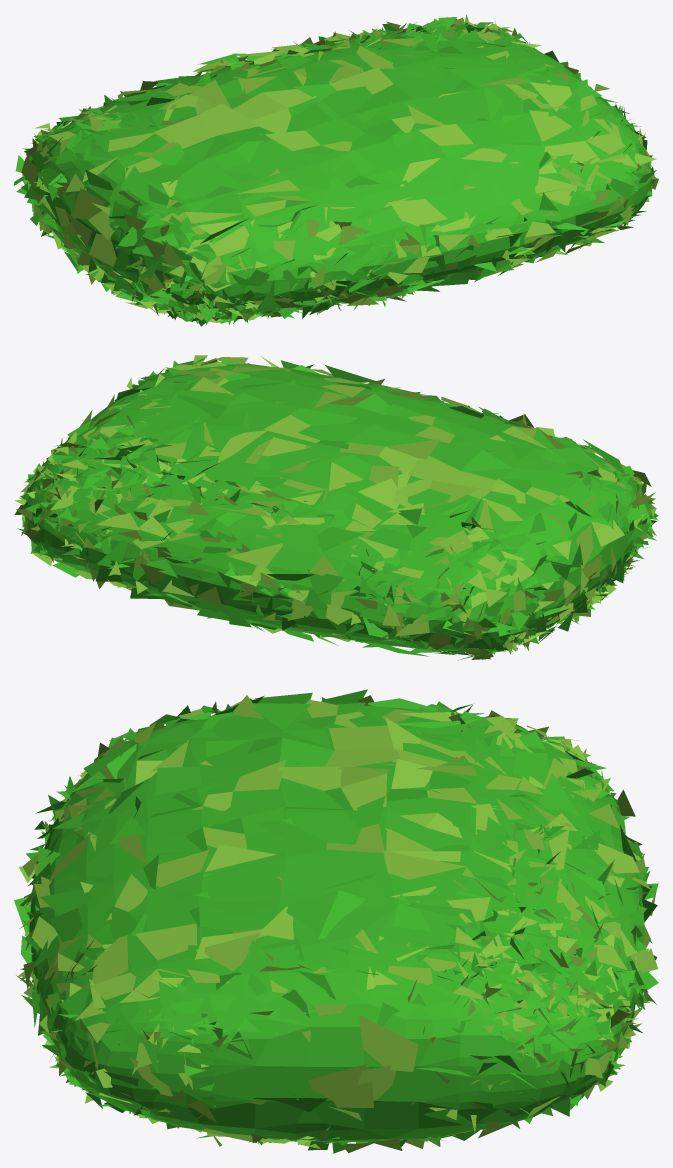
Rendered from Bush.fbx.
3 renders of one model, top to bottom at view 1: azimuth 30°, elevation 25°; view 2: azimuth 150°, elevation 25°; view 3: azimuth 270°, elevation 25°, orthographic. The views are drawn at different scales.
Visible parts, largest first — view 1: Cube.010; view 2: Cube.010; view 3: Cube.010.
Part boxes in pixels (x1,y1,x2,y2): Cube.010: (14, 14, 658, 326); Cube.010: (14, 355, 658, 660); Cube.010: (14, 689, 658, 1153).
Size of the model in its own units: 109 by 32.54 by 86.95.
